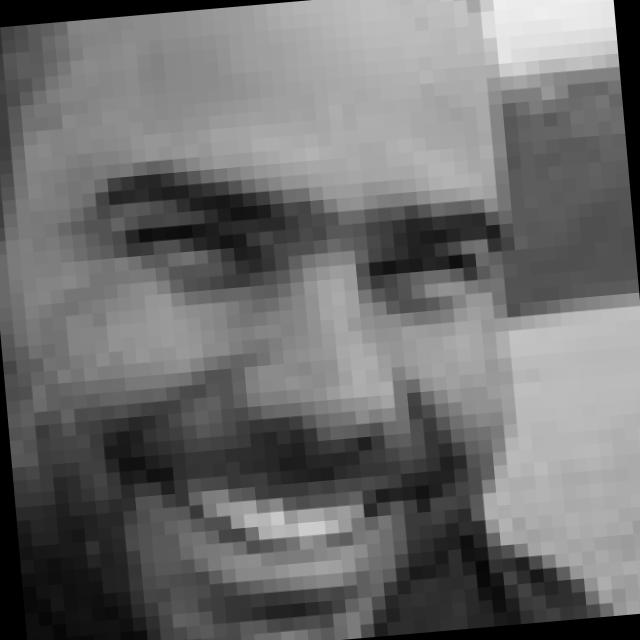happy: (57, 130, 527, 640)
